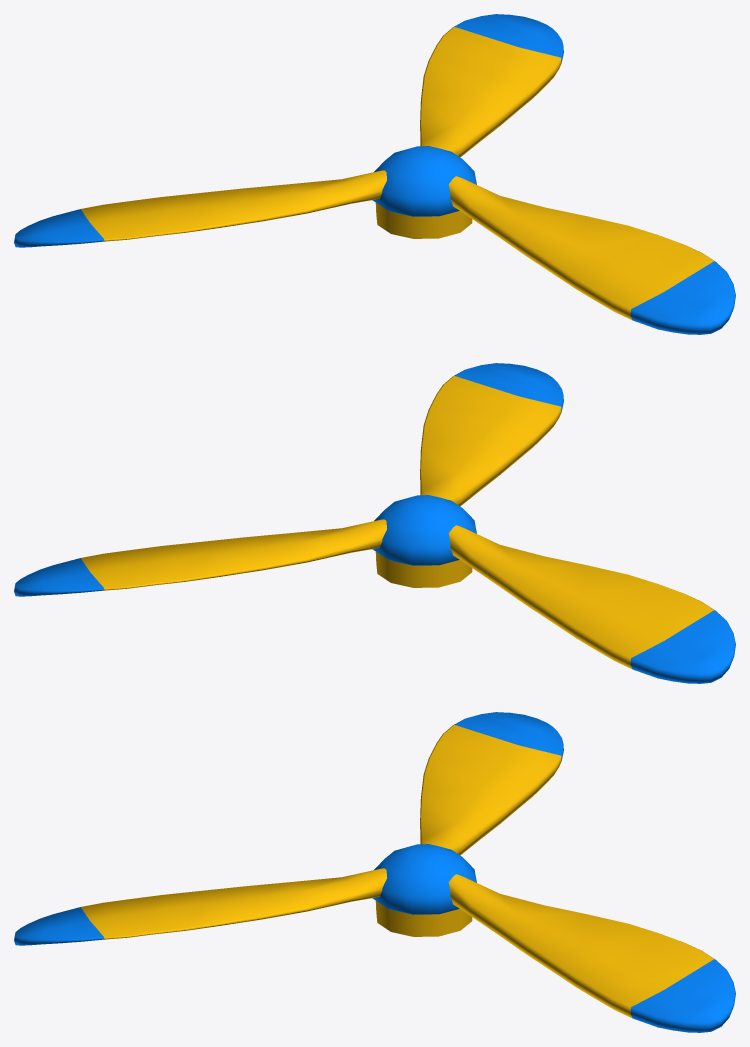
Rendered from HexProPeller.fbx.
3 renders of one model, top to bottom at view 1: azimuth 30°, elevation 25°; view 2: azimuth 150°, elevation 25°; view 3: azimuth 270°, elevation 25°, orthographic.
Visible parts, largest first — view 1: PRP_FloatingCam_Propeller_0, PRP_FloatingCam_Propeller_1, PRP_FloatingCam_Propeller_2; view 2: PRP_FloatingCam_Propeller_0, PRP_FloatingCam_Propeller_1, PRP_FloatingCam_Propeller_2; view 3: PRP_FloatingCam_Propeller_0, PRP_FloatingCam_Propeller_1, PRP_FloatingCam_Propeller_2.
Part boxes in pixels (box(x1,y1,x2,y2)): PRP_FloatingCam_Propeller_0: box(81, 27, 714, 319); PRP_FloatingCam_Propeller_1: box(14, 14, 735, 334); PRP_FloatingCam_Propeller_2: box(375, 203, 472, 238); PRP_FloatingCam_Propeller_0: box(81, 376, 714, 668); PRP_FloatingCam_Propeller_1: box(14, 363, 735, 683); PRP_FloatingCam_Propeller_2: box(375, 552, 472, 587); PRP_FloatingCam_Propeller_0: box(81, 725, 714, 1017); PRP_FloatingCam_Propeller_1: box(14, 712, 735, 1032); PRP_FloatingCam_Propeller_2: box(375, 901, 472, 936).
Bounding box in the file's own units: 16.16 × 1.66 × 16.24.
